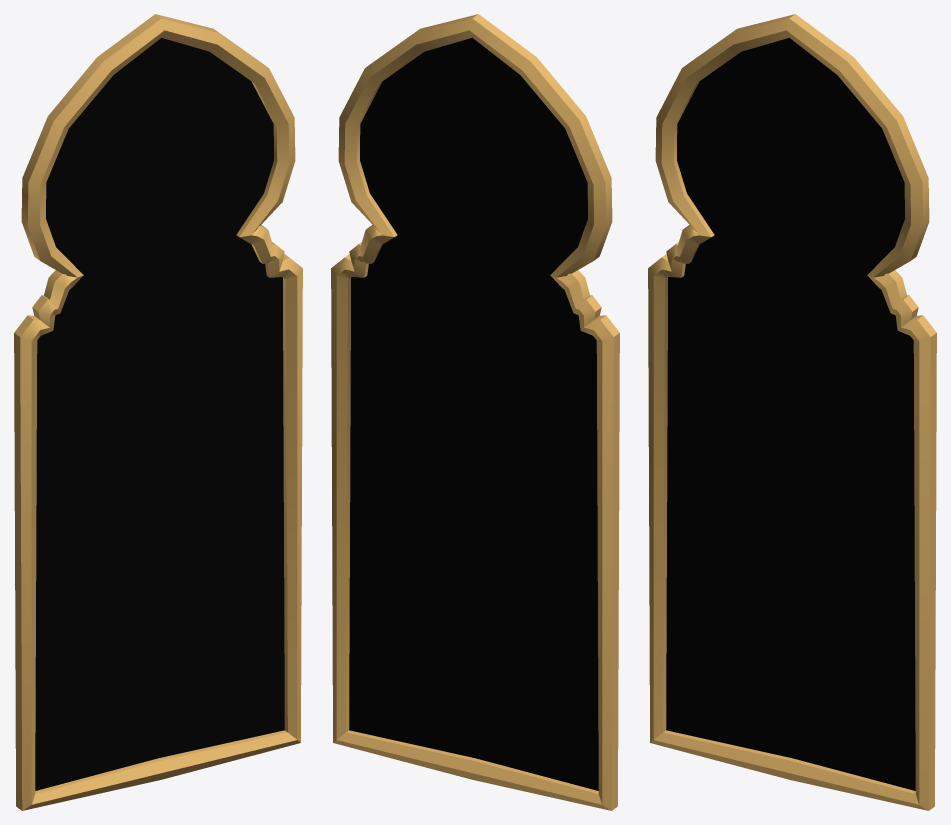
Rendered from Fenetre00.fbx.
The picture shows the model from 3 angles, left to right: view 1: azimuth 30°, elevation 25°; view 2: azimuth 150°, elevation 25°; view 3: azimuth 330°, elevation 25°; orthographic projection.
Visible parts, largest first — view 1: Fenetre, Fenetre_Bordure; view 2: Fenetre, Fenetre_Bordure; view 3: Fenetre, Fenetre_Bordure.
Boxes of the visible parts, left/top/right/bottom form: Fenetre: left=35, top=37, right=284, bottom=790; Fenetre_Bordure: left=14, top=14, right=302, bottom=810; Fenetre: left=349, top=37, right=598, bottom=790; Fenetre_Bordure: left=331, top=14, right=619, bottom=810; Fenetre: left=666, top=37, right=915, bottom=790; Fenetre_Bordure: left=648, top=14, right=936, bottom=810.
Bounding box in the file's own units: 1.06 × 2.74 × 0.08.
